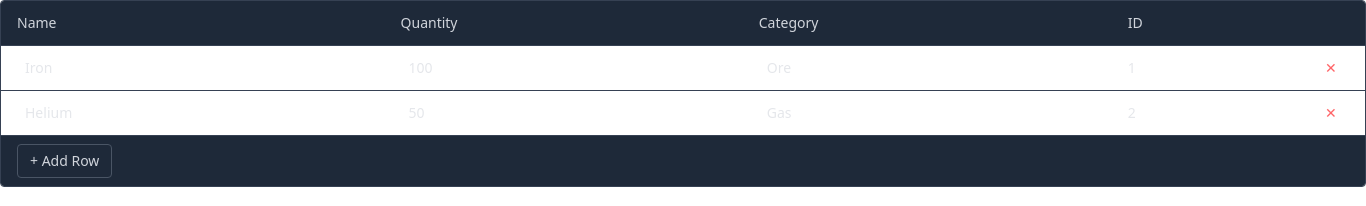
Test case: EditableGrid › cancels edit on Escape key
Click the button "Iron" at (39, 68), box [17,54,369,82]
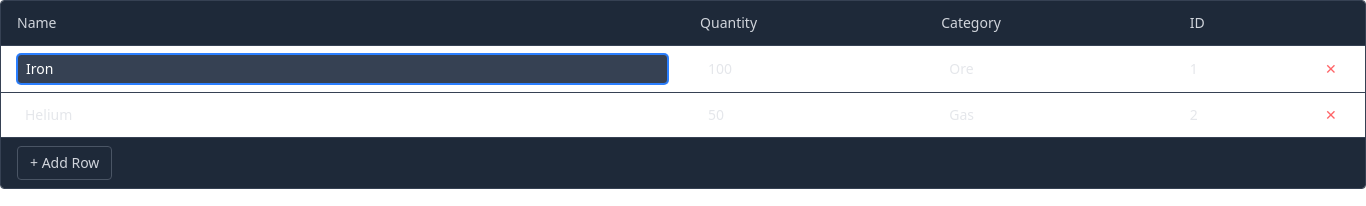
Replace the text in the field showing "Iron" with "Copper" at (343, 69), box [17,54,668,84]
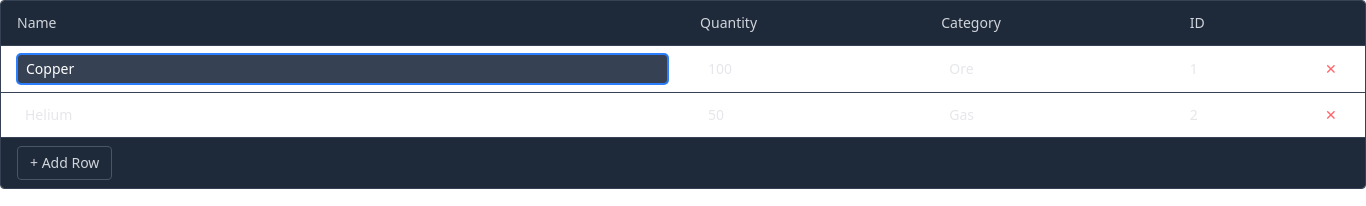
Press Escape in the field showing "Iron", box [17,54,668,84]
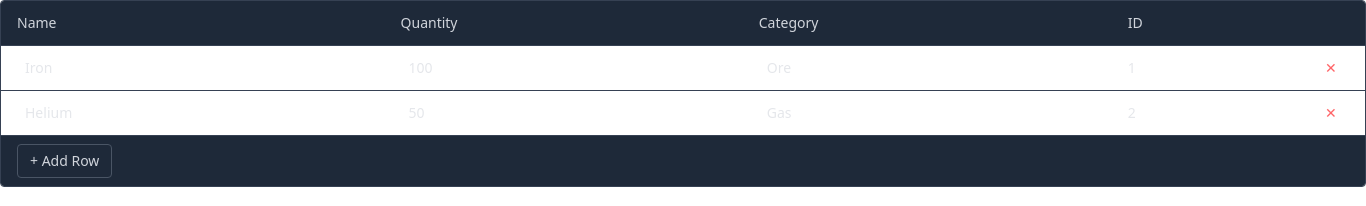
Check: the button "Iron" is shown, box [17,54,369,82]
